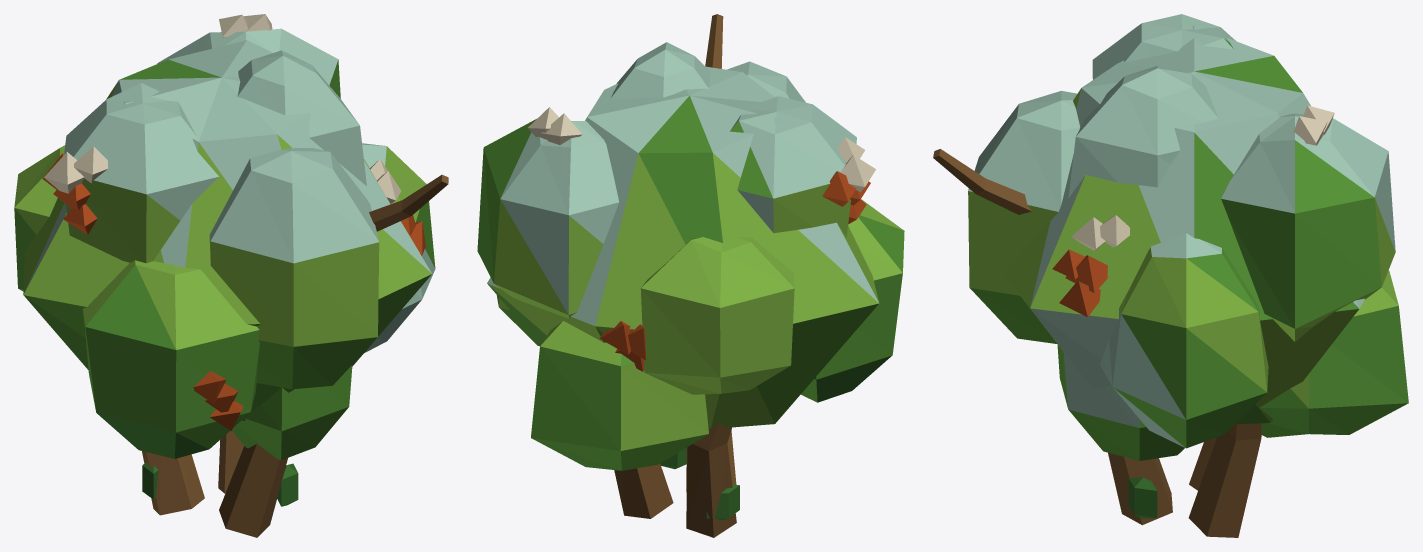
File: leafy-bush-d37bba.glb
The picture shows the model from 3 angles, left to right: view 1: azimuth 30°, elevation 25°; view 2: azimuth 150°, elevation 25°; view 3: azimuth 270°, elevation 25°; orthographic projection. The views are drawn at different scales.
Parts seen in each view (by area): view 1: leafy-bush-mesh; view 2: leafy-bush-mesh; view 3: leafy-bush-mesh.
Part boxes in pixels (<box>): leafy-bush-mesh: <box>14,14,448,537</box>; leafy-bush-mesh: <box>477,14,904,537</box>; leafy-bush-mesh: <box>933,14,1408,537</box>.
Bounding box in the file's own units: 0.973 × 1.05 × 0.9644.
